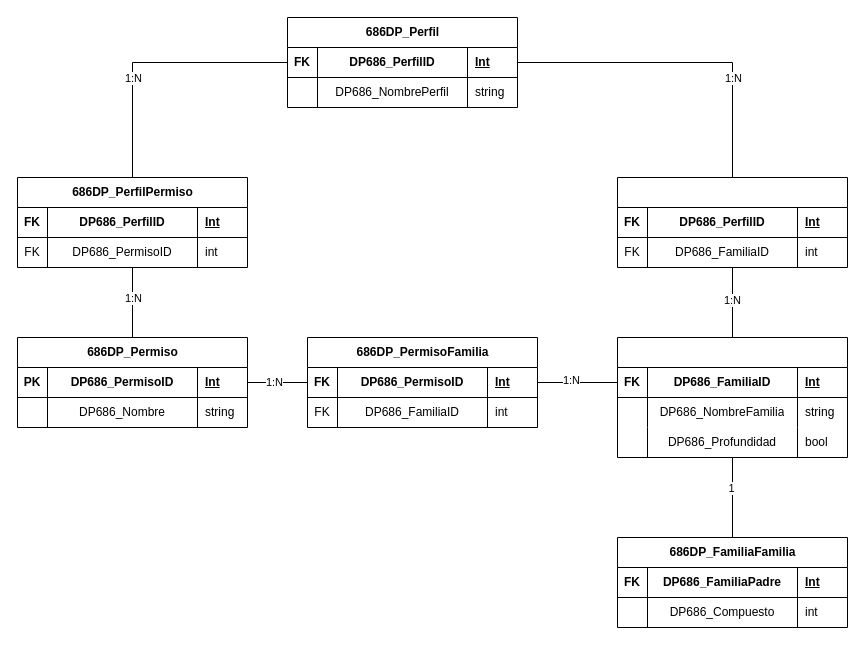
This 865x645 diagram has some shape labels left out. Each missing label, with the box of its shape:
686DP_Familia: (616, 336, 848, 458)
686DP_PerfilFamilia: (616, 176, 848, 268)
